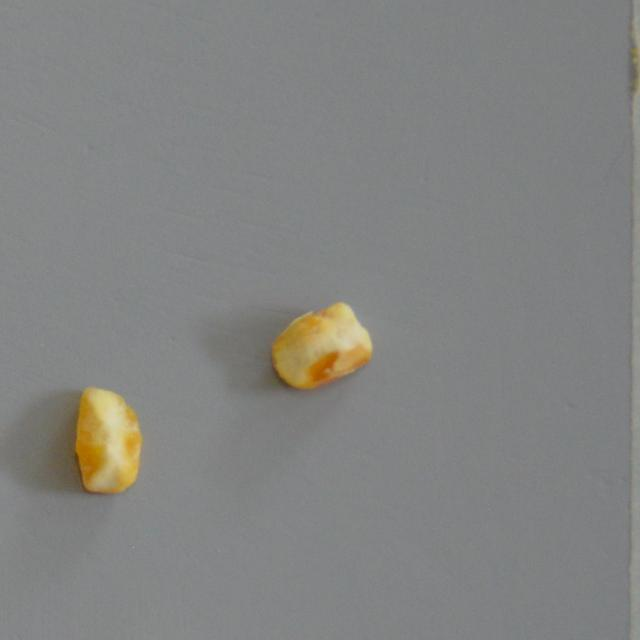dañado: (266, 299, 378, 393), (68, 380, 144, 502)
